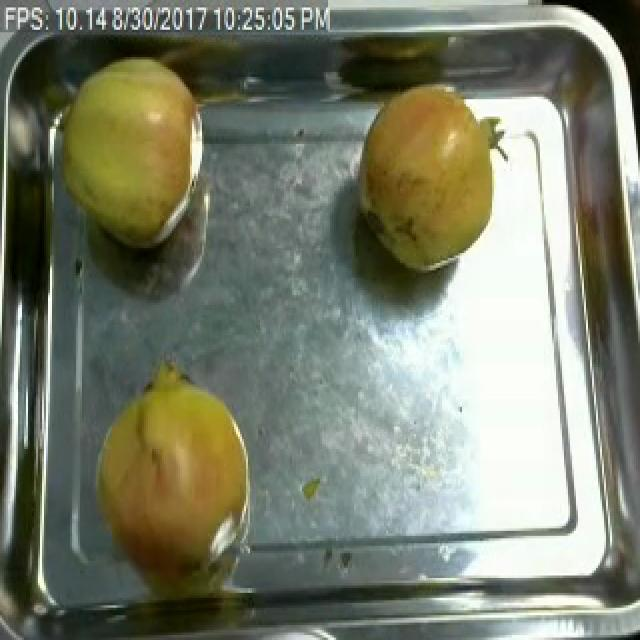fruit: (82, 352, 270, 613), (348, 67, 526, 288), (50, 50, 212, 258)
